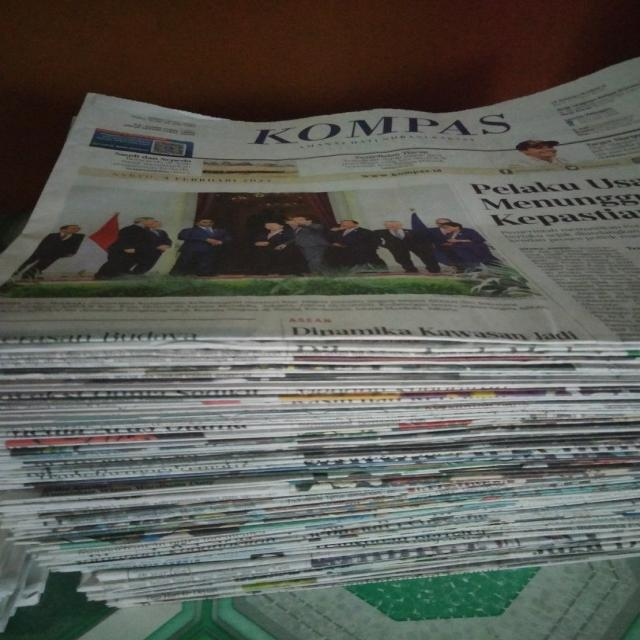Koran: (5, 56, 640, 604)
